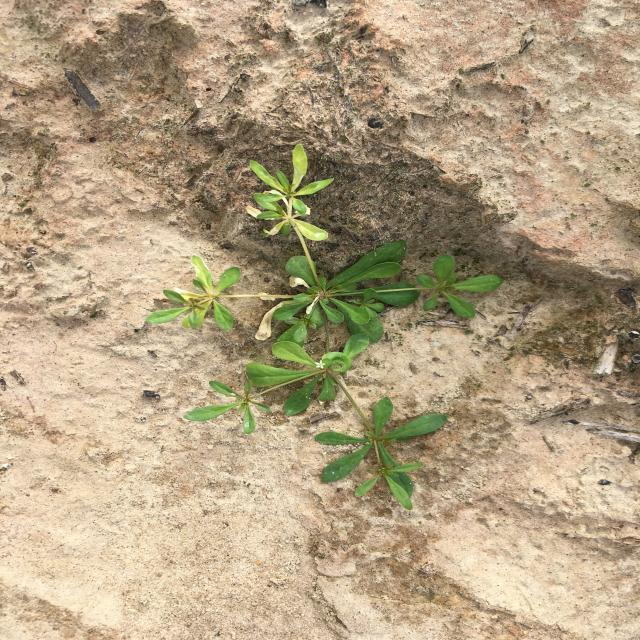Carpetweed: (146, 144, 502, 511)
